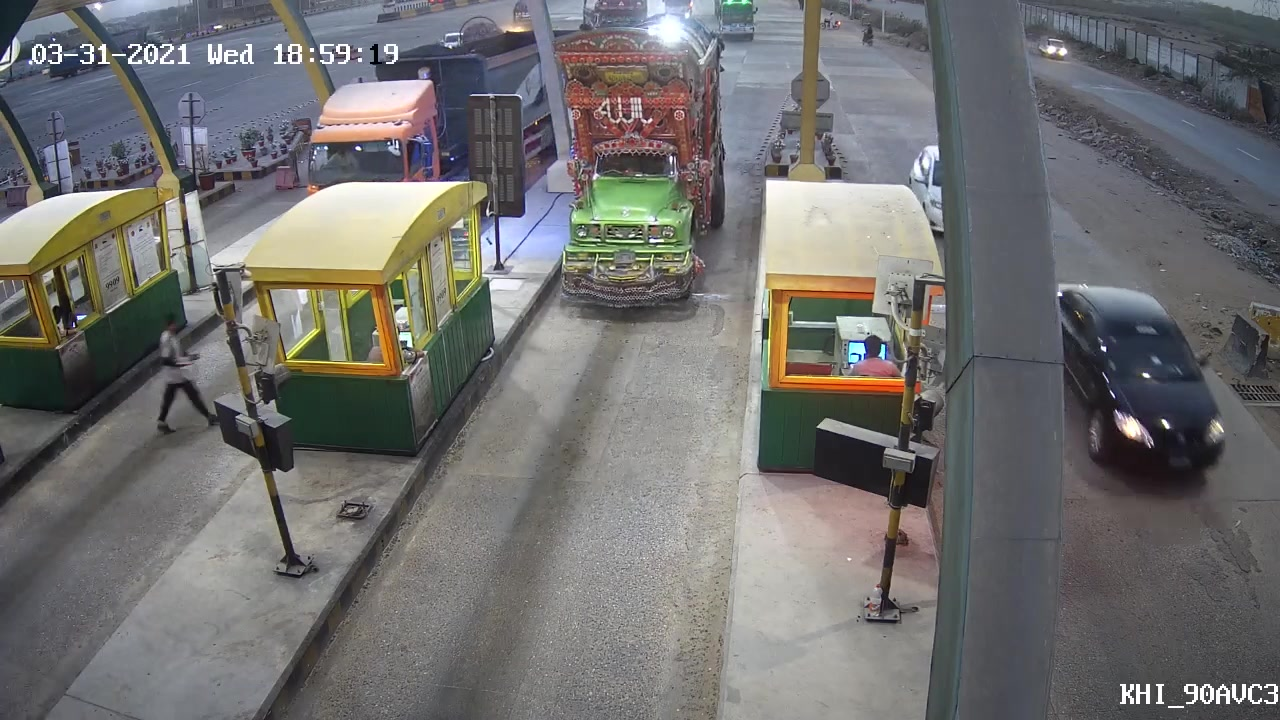F5: (547, 12, 733, 314)
